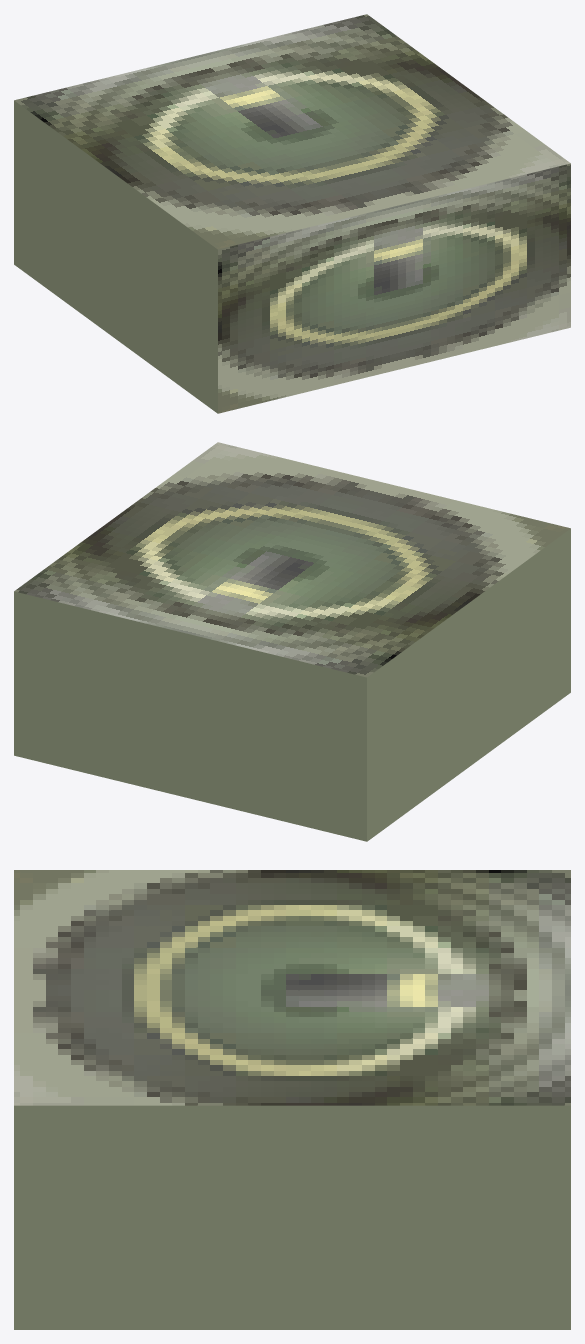
The model's file is Building_MechDropBeacon.glb.
The picture shows the model from 3 angles, top to bottom: view 1: azimuth 30°, elevation 25°; view 2: azimuth 150°, elevation 25°; view 3: azimuth 270°, elevation 25°; orthographic projection. The views are drawn at different scales.
Visible parts, largest first — view 1: MechDropBeacon; view 2: MechDropBeacon; view 3: MechDropBeacon.
Part boxes in pixels (left/top/right/bottom): MechDropBeacon: left=14, top=14, right=570, bottom=413; MechDropBeacon: left=14, top=442, right=570, bottom=841; MechDropBeacon: left=14, top=870, right=570, bottom=1329.
Size of the model in its own units: 0.9 by 0.4 by 0.9.
1 material, 1 textured.
